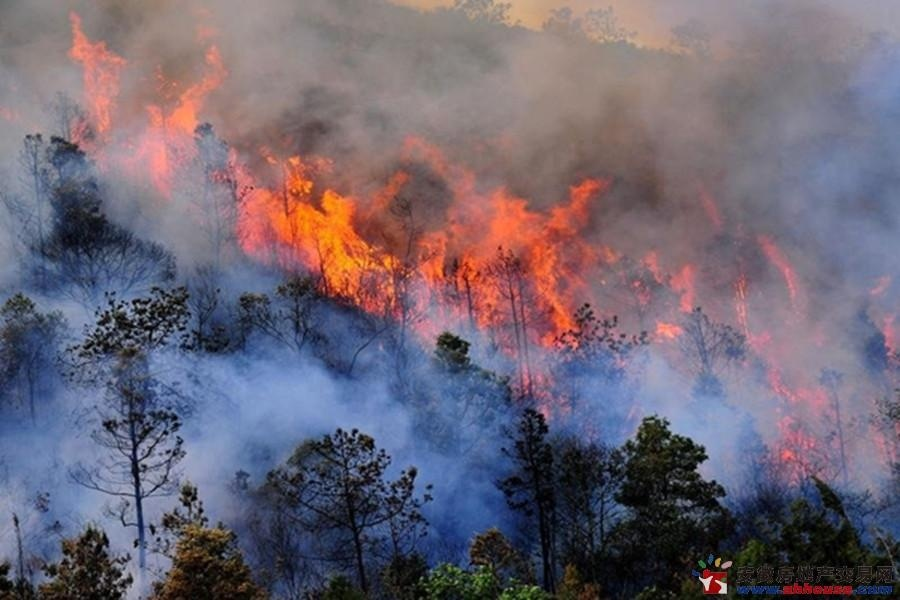fire: (612, 233, 898, 486), (62, 11, 218, 183), (510, 365, 572, 420)
